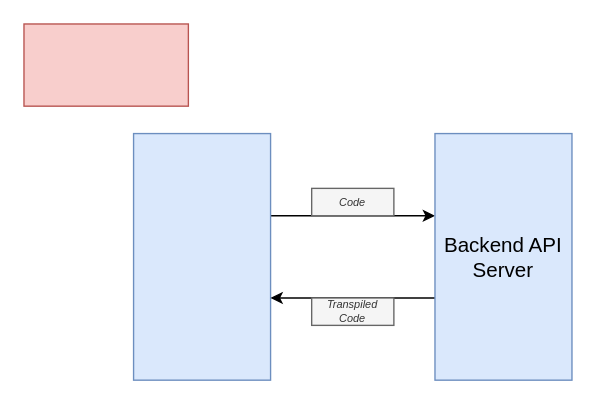
Some shapes in this 596 by 404 pixel diagram are drawn without their labels. Each missing label, with the box of its shape:
React App: (132, 132, 271, 380)
Transpiling Option #1: (23, 23, 188, 106)
